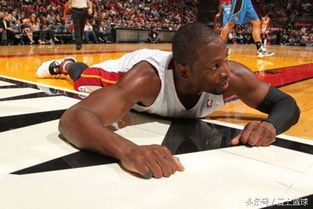falling: (45, 11, 294, 176)
